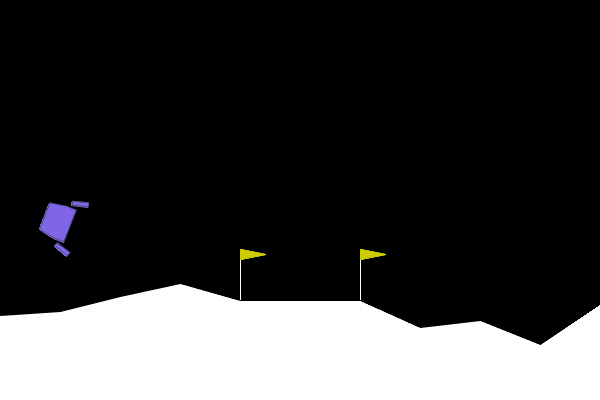lander: (31, 188, 91, 258)
